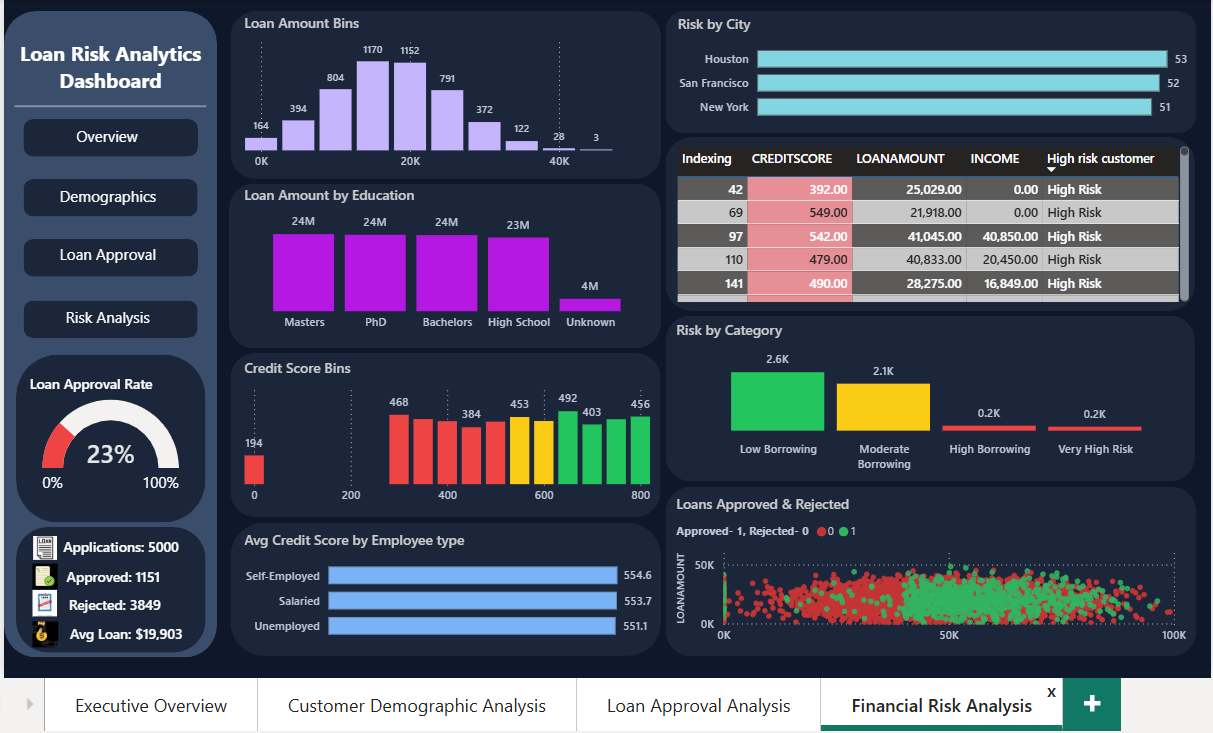

The page's visual inventory and layout, read from the dashboard file:
{"tool":"powerbi","page":{"name":"Financial Risk Analysis","canvas":[1280,720],"ordinal":3},"visuals":[{"type":"scatterChart","fields":{"Y":["LOAN_RISK_DATA_CLEAN.LOANAMOUNT"],"X":["LOAN_RISK_DATA_CLEAN.INCOME"],"Series":["LOAN_RISK_DATA_CLEAN.LOANAPPROVED"]},"box":[11.3,13,443.7,254.2],"z":0},{"type":"columnChart","fields":{"Category":["LOAN_RISK_DATA_CLEAN.EMPLOYMENTTYPE"],"Y":["LOAN_RISK_DATA_CLEAN.Average Credit Score"]},"box":[10.8,280.6,444.3,190.7],"z":1000},{"type":"columnChart","fields":{"Category":["LOAN_RISK_DATA_CLEAN.Ratio Category"],"Y":["CountNonNull(LOAN_RISK_DATA_CLEAN.Indexing)"]},"box":[11,490.5,444,191],"z":2000},{"type":"tableEx","fields":{"Values":["LOAN_RISK_DATA_CLEAN.Indexing","LOAN_RISK_DATA_CLEAN.CREDITSCORE","LOAN_RISK_DATA_CLEAN.LOANAMOUNT","LOAN_RISK_DATA_CLEAN.INCOME","LOAN_RISK_DATA_CLEAN.High risk customer"]},"box":[498.7,13,382.1,346.5],"z":3000},{"type":"clusteredColumnChart","fields":{"Category":["LOAN_RISK_DATA_CLEAN.LOANAMOUNT (bins)"],"Y":["CountNonNull(LOAN_RISK_DATA_CLEAN.LOANAMOUNT)"]},"box":[939.2,13,327.1,254.2],"z":4000},{"type":"barChart","fields":{"Category":["LOAN_RISK_DATA_CLEAN.CREDITSCORE (bins)"],"Y":["CountNonNull(LOAN_RISK_DATA_CLEAN.Indexing)"]},"box":[498.7,375.7,327.1,272],"z":5000},{"type":"clusteredBarChart","fields":{"Category":["LOAN_RISK_DATA_CLEAN.CITY"],"Y":["CountNonNull(LOAN_RISK_DATA_CLEAN.Indexing)"]},"box":[898.7,280.1,367.6,119.8],"z":6000},{"type":"clusteredBarChart","fields":{"Category":["LOAN_RISK_DATA_CLEAN.EDUCATION"],"Y":["Sum(LOAN_RISK_DATA_CLEAN.LOANAMOUNT)"]},"box":[899,400,368,248],"z":7000}]}

Visuals, with their boxes on the page's 1280x720 design canvas (x1, y1, x2, y2). These are canvas units, not pixel positions in the 1213x733 screenshot, which may show the page scaled, cropped or inside an application window:
scatterChart - LOAN_RISK_DATA_CLEAN.LOANAMOUNT x LOAN_RISK_DATA_CLEAN.INCOME: bbox(11, 13, 455, 267)
columnChart - LOAN_RISK_DATA_CLEAN.EMPLOYMENTTYPE x LOAN_RISK_DATA_CLEAN.Average Credit Score: bbox(11, 281, 455, 471)
columnChart - LOAN_RISK_DATA_CLEAN.Ratio Category x CountNonNull(LOAN_RISK_DATA_CLEAN.Indexing): bbox(11, 490, 455, 682)
tableEx - LOAN_RISK_DATA_CLEAN.Indexing x LOAN_RISK_DATA_CLEAN.CREDITSCORE: bbox(499, 13, 881, 360)
clusteredColumnChart - LOAN_RISK_DATA_CLEAN.LOANAMOUNT (bins) x CountNonNull(LOAN_RISK_DATA_CLEAN.LOANAMOUNT): bbox(939, 13, 1266, 267)
barChart - LOAN_RISK_DATA_CLEAN.CREDITSCORE (bins) x CountNonNull(LOAN_RISK_DATA_CLEAN.Indexing): bbox(499, 376, 826, 648)
clusteredBarChart - LOAN_RISK_DATA_CLEAN.CITY x CountNonNull(LOAN_RISK_DATA_CLEAN.Indexing): bbox(899, 280, 1266, 400)
clusteredBarChart - LOAN_RISK_DATA_CLEAN.EDUCATION x Sum(LOAN_RISK_DATA_CLEAN.LOANAMOUNT): bbox(899, 400, 1267, 648)
